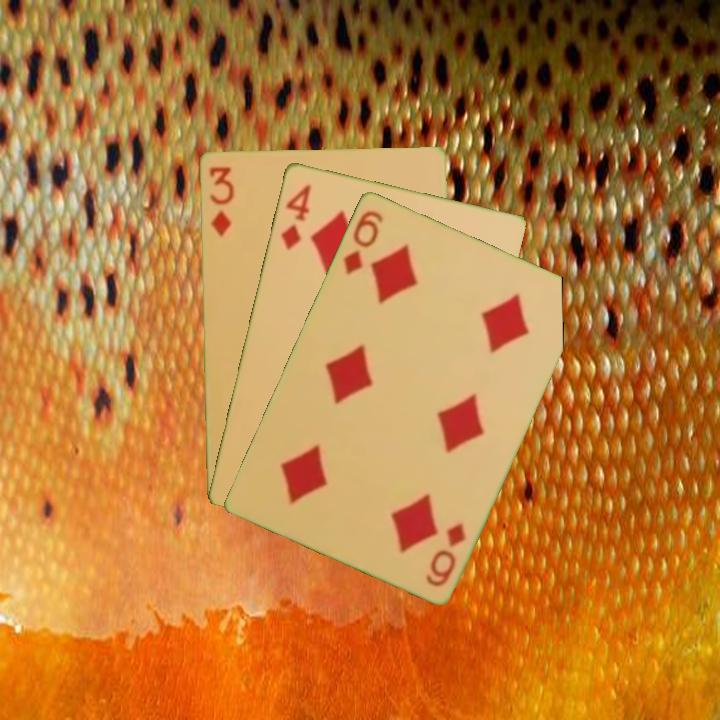3d: (205, 163, 237, 239)
4d: (277, 180, 314, 253)
6d: (339, 206, 386, 278), (422, 519, 469, 589)
